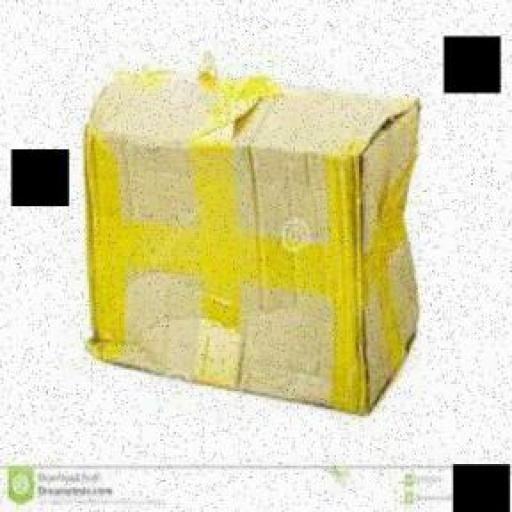box: (79, 51, 426, 415)
